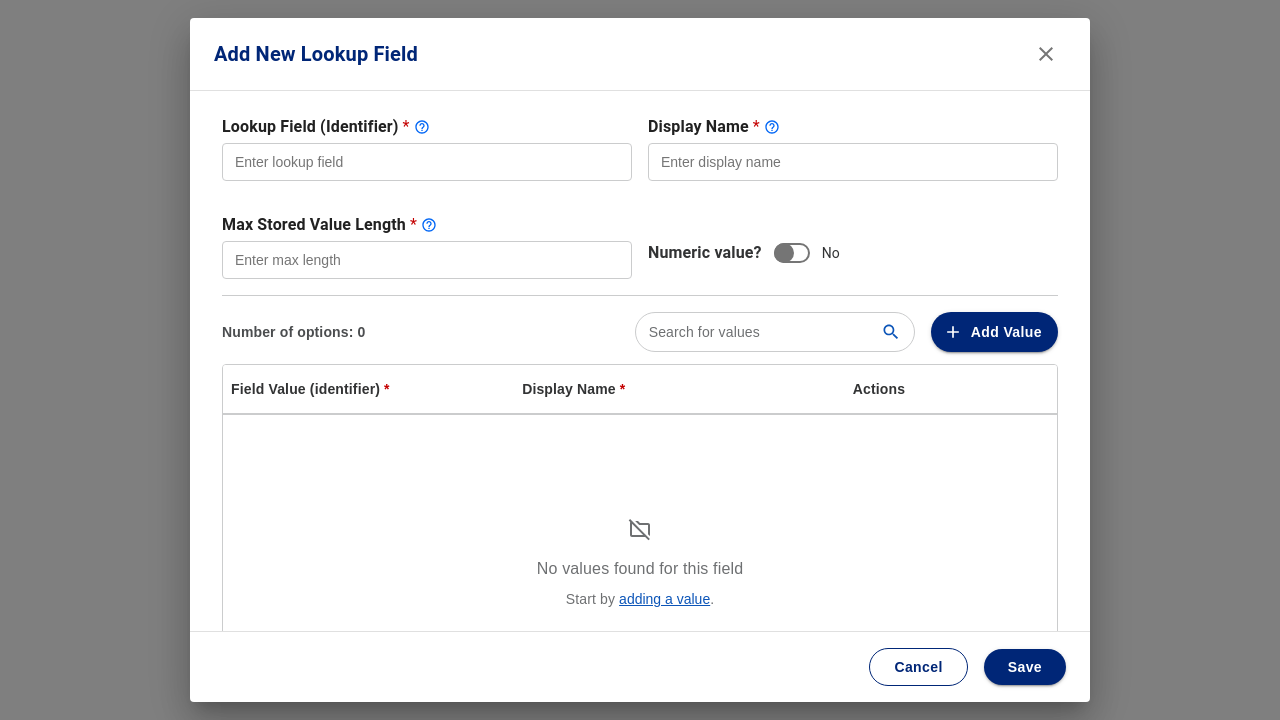
LookupFieldDialog › should clear errors when user starts typing after validation error
Step 1. Click the button "Save" → [1025, 667], box [984,648,1066,685]
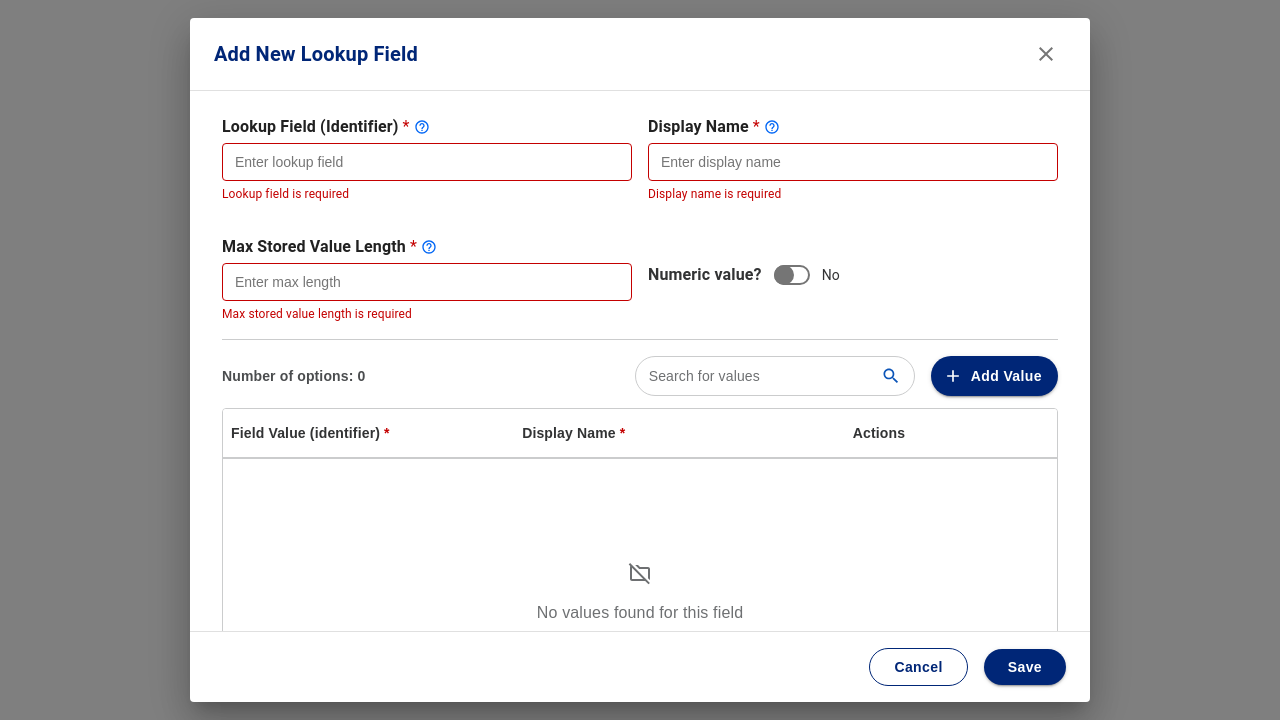
expect the text "Lookup field is required" is shown: met, box [222,187,349,201]
Step 2. Type "FIELD_001" into the field with placeholder "Enter lookup field" → [427, 162], box [222,143,632,181]
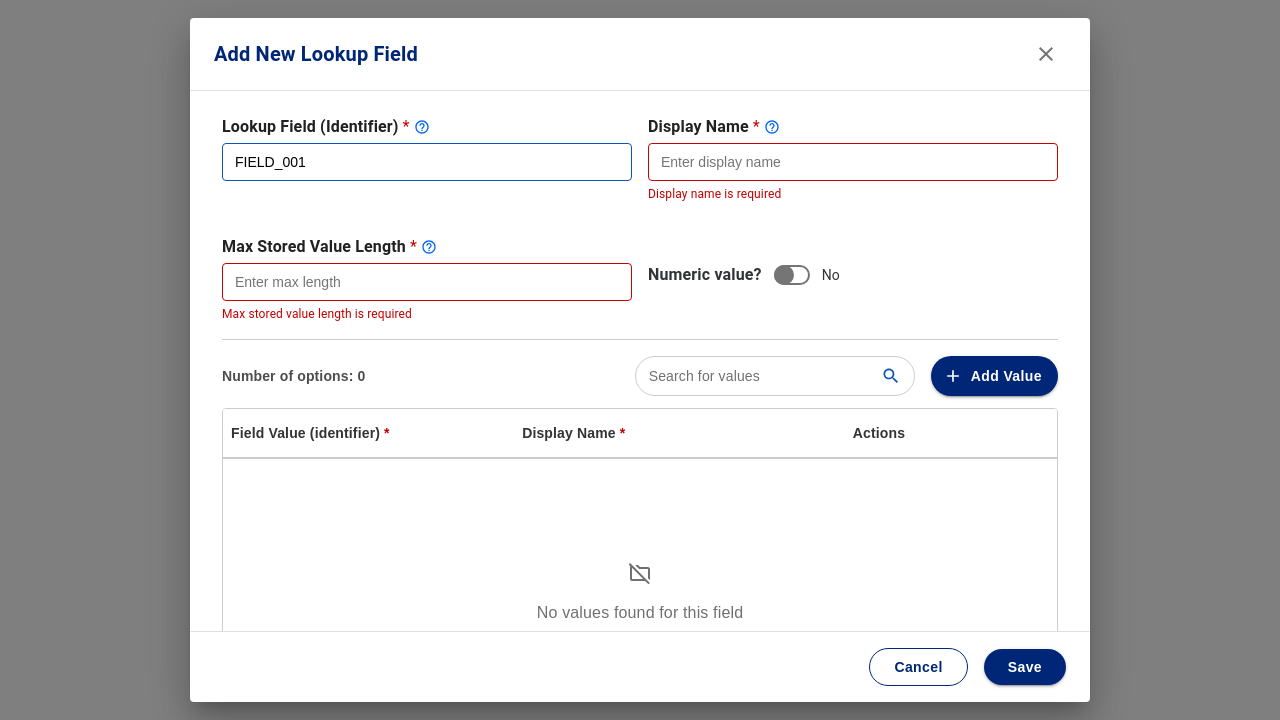
expect the text "Lookup field is required" is gone: met
